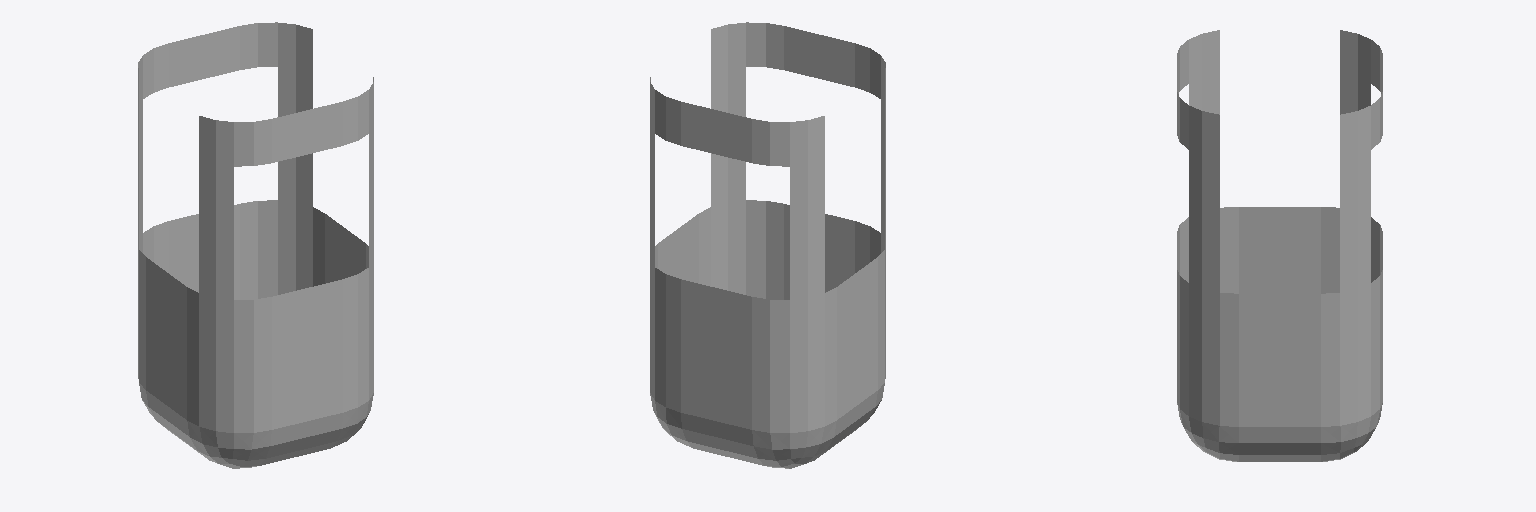
Rendered from bag3_000.obj.
3 renders of one model, left to right at view 1: azimuth 30°, elevation 25°; view 2: azimuth 150°, elevation 25°; view 3: azimuth 270°, elevation 25°, orthographic.
Visible parts, largest first — view 1: Cube-0-1.013_Cube.116; view 2: Cube-0-1.013_Cube.116; view 3: Cube-0-1.013_Cube.116.
Boxes of the visible parts, x1=… form: Cube-0-1.013_Cube.116: x1=138, y1=22, x2=373, y2=468; Cube-0-1.013_Cube.116: x1=650, y1=22, x2=885, y2=468; Cube-0-1.013_Cube.116: x1=1177, y1=30, x2=1382, y2=461.
Bounding box in the file's own units: 2 × 3.92 × 2.